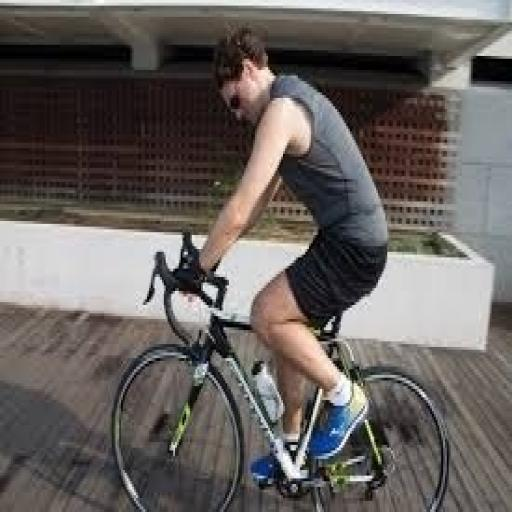cycling: (171, 22, 391, 490)
